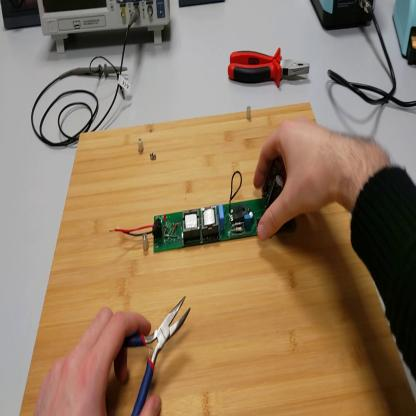hand: (35, 306, 163, 415), (254, 116, 344, 242)
high voltage board: (109, 160, 296, 256)
oscilloscope: (37, 1, 172, 51)
oscilloscope probe tip: (69, 68, 133, 82)
pliers: (126, 292, 194, 414), (228, 48, 311, 90)
socket: (1, 2, 42, 31)
welder base: (393, 3, 416, 69)
welder station: (310, 2, 377, 35)
working area: (23, 102, 416, 414)
